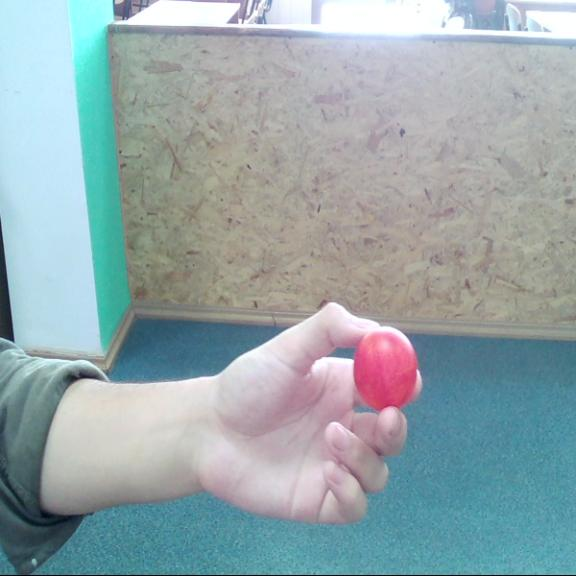ball: (355, 325, 419, 406)
